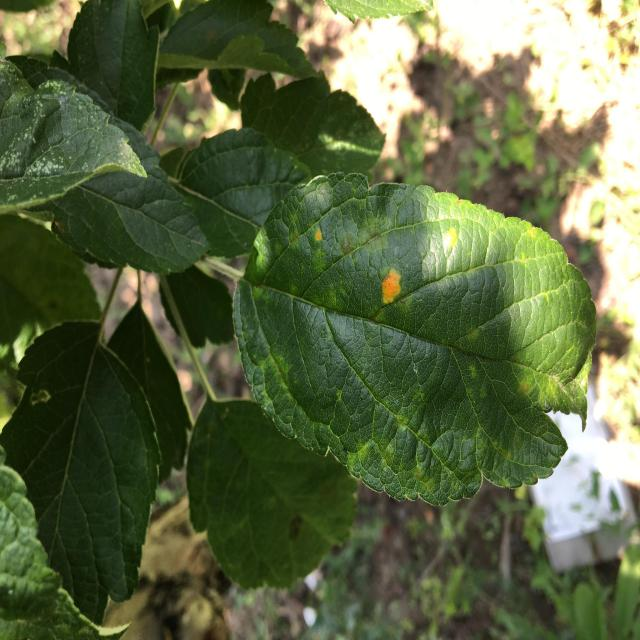Rust: (366, 256, 406, 314), (306, 216, 330, 248)
